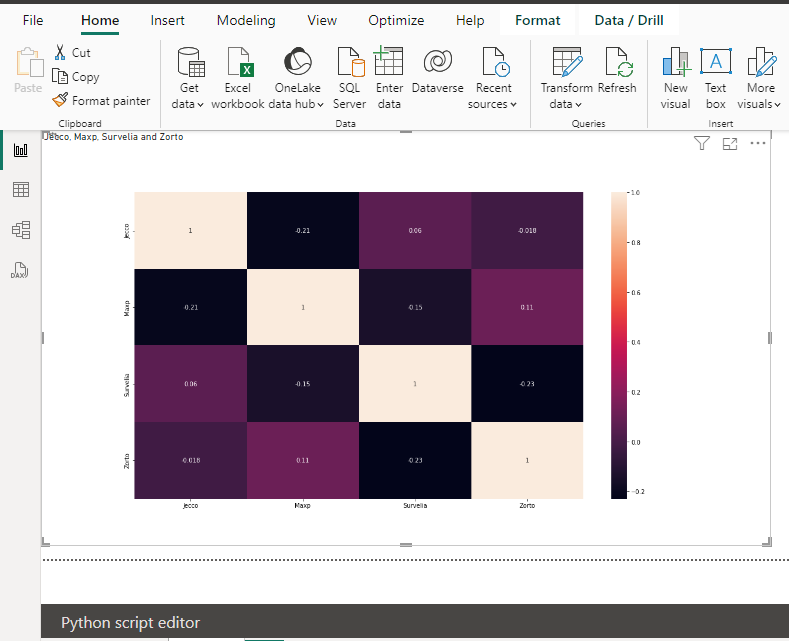

What the dashboard file says about the page in this screenshot:
{"tool":"powerbi","page":{"name":"Page 1","canvas":[1280,720],"ordinal":0},"visuals":[{"type":"pythonVisual","fields":{"Values":["Sum(page-1_table-1.Jecco)","page-1_table-1.Maxp","page-1_table-1.Survelia","page-1_table-1.Zorto"]},"box":[0,0,1226.2,698.8],"z":0}]}

Visuals, with their boxes on the page's 1280x720 design canvas (x1, y1, x2, y2). These are canvas units, not pixel positions in the 789x641 screenshot, which may show the page scaled, cropped or inside an application window:
pythonVisual - Sum(page-1_table-1.Jecco) x page-1_table-1.Maxp: [0,0,1226,699]
